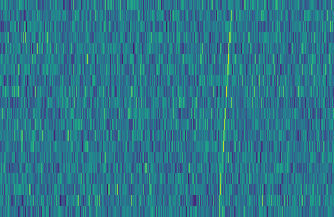signal: (215, 0, 237, 217)
